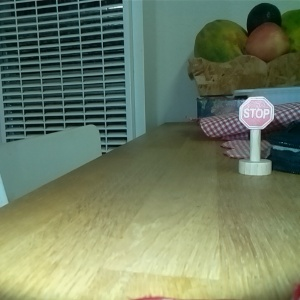stop sign: (235, 93, 277, 179)
